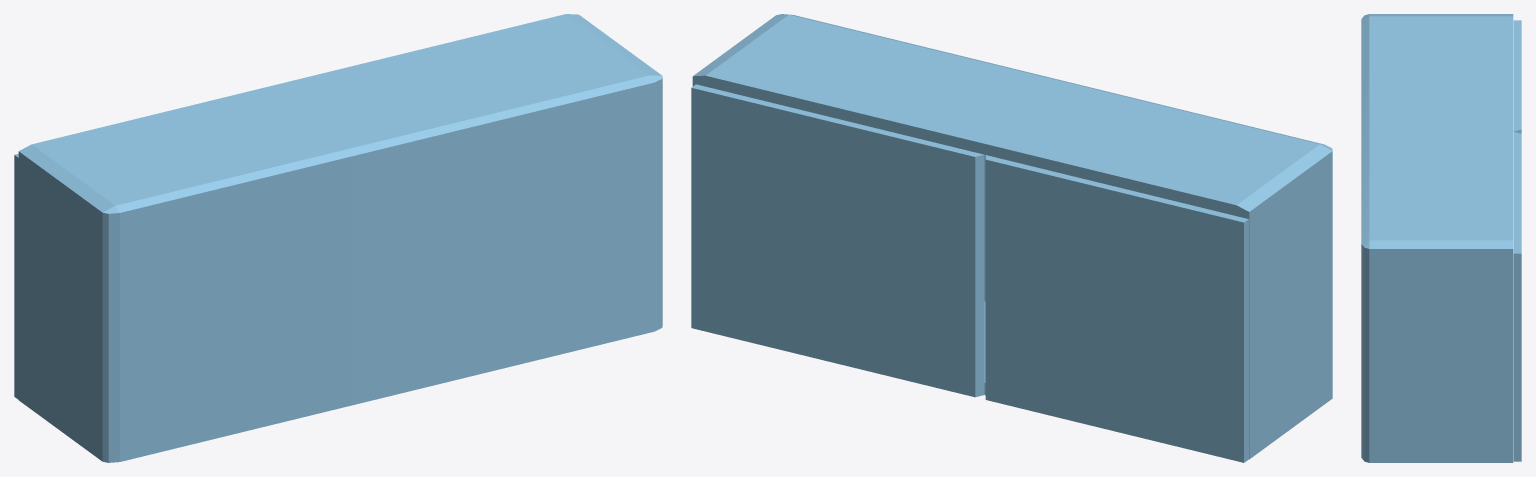
The model's file is Prop_closet_kitchen_double_1.FBX.
3 renders of one model, left to right at view 1: azimuth 30°, elevation 25°; view 2: azimuth 150°, elevation 25°; view 3: azimuth 270°, elevation 25°, orthographic. The views are drawn at different scales.
Parts seen in each view (by area): view 1: Prop_closet_kitch1, Prop_closetkit_door1; view 2: Prop_closet_kitch1, Prop_closetkit_door2, Prop_closetkit_door1; view 3: Prop_closet_kitch1, Prop_closetkit_door2, Prop_closetkit_door1.
Part boxes in pixels (x1,y1,x2,y2): Prop_closet_kitch1: (18,14,662,462); Prop_closetkit_door1: (14,153,18,399); Prop_closet_kitch1: (692,14,1332,459); Prop_closetkit_door2: (691,84,984,397); Prop_closetkit_door1: (985,155,1248,462); Prop_closet_kitch1: (1361,14,1513,462); Prop_closetkit_door2: (1513,132,1521,461); Prop_closetkit_door1: (1513,20,1521,133).
Size of the model in its own units: 51.37 by 14.84 by 22.15.
